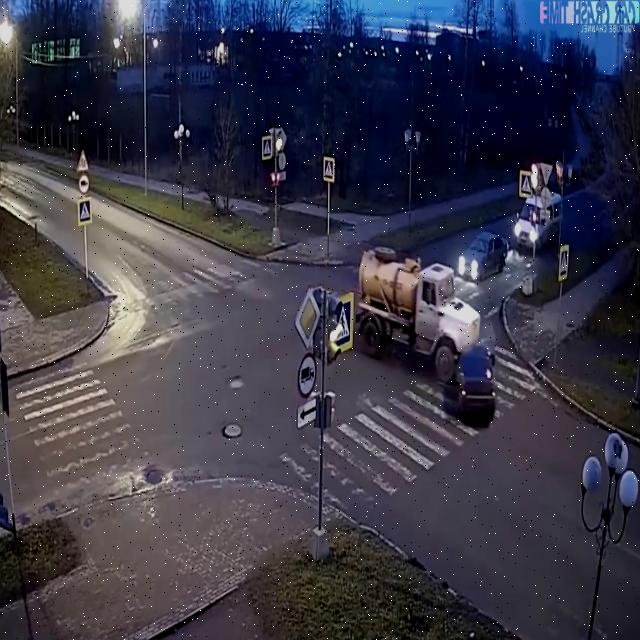accident: (347, 229, 502, 425)
